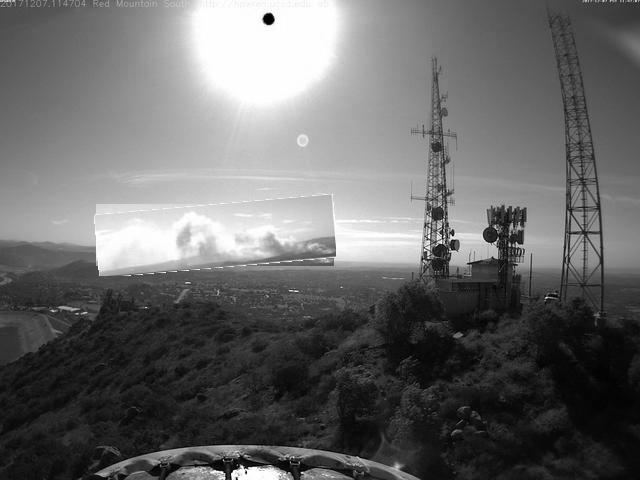smoke: (96, 200, 337, 273)
